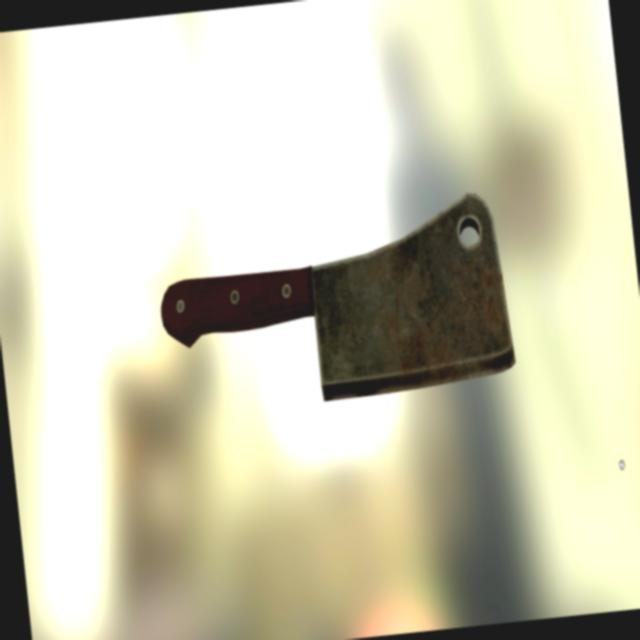cleaver: (140, 181, 520, 438)
